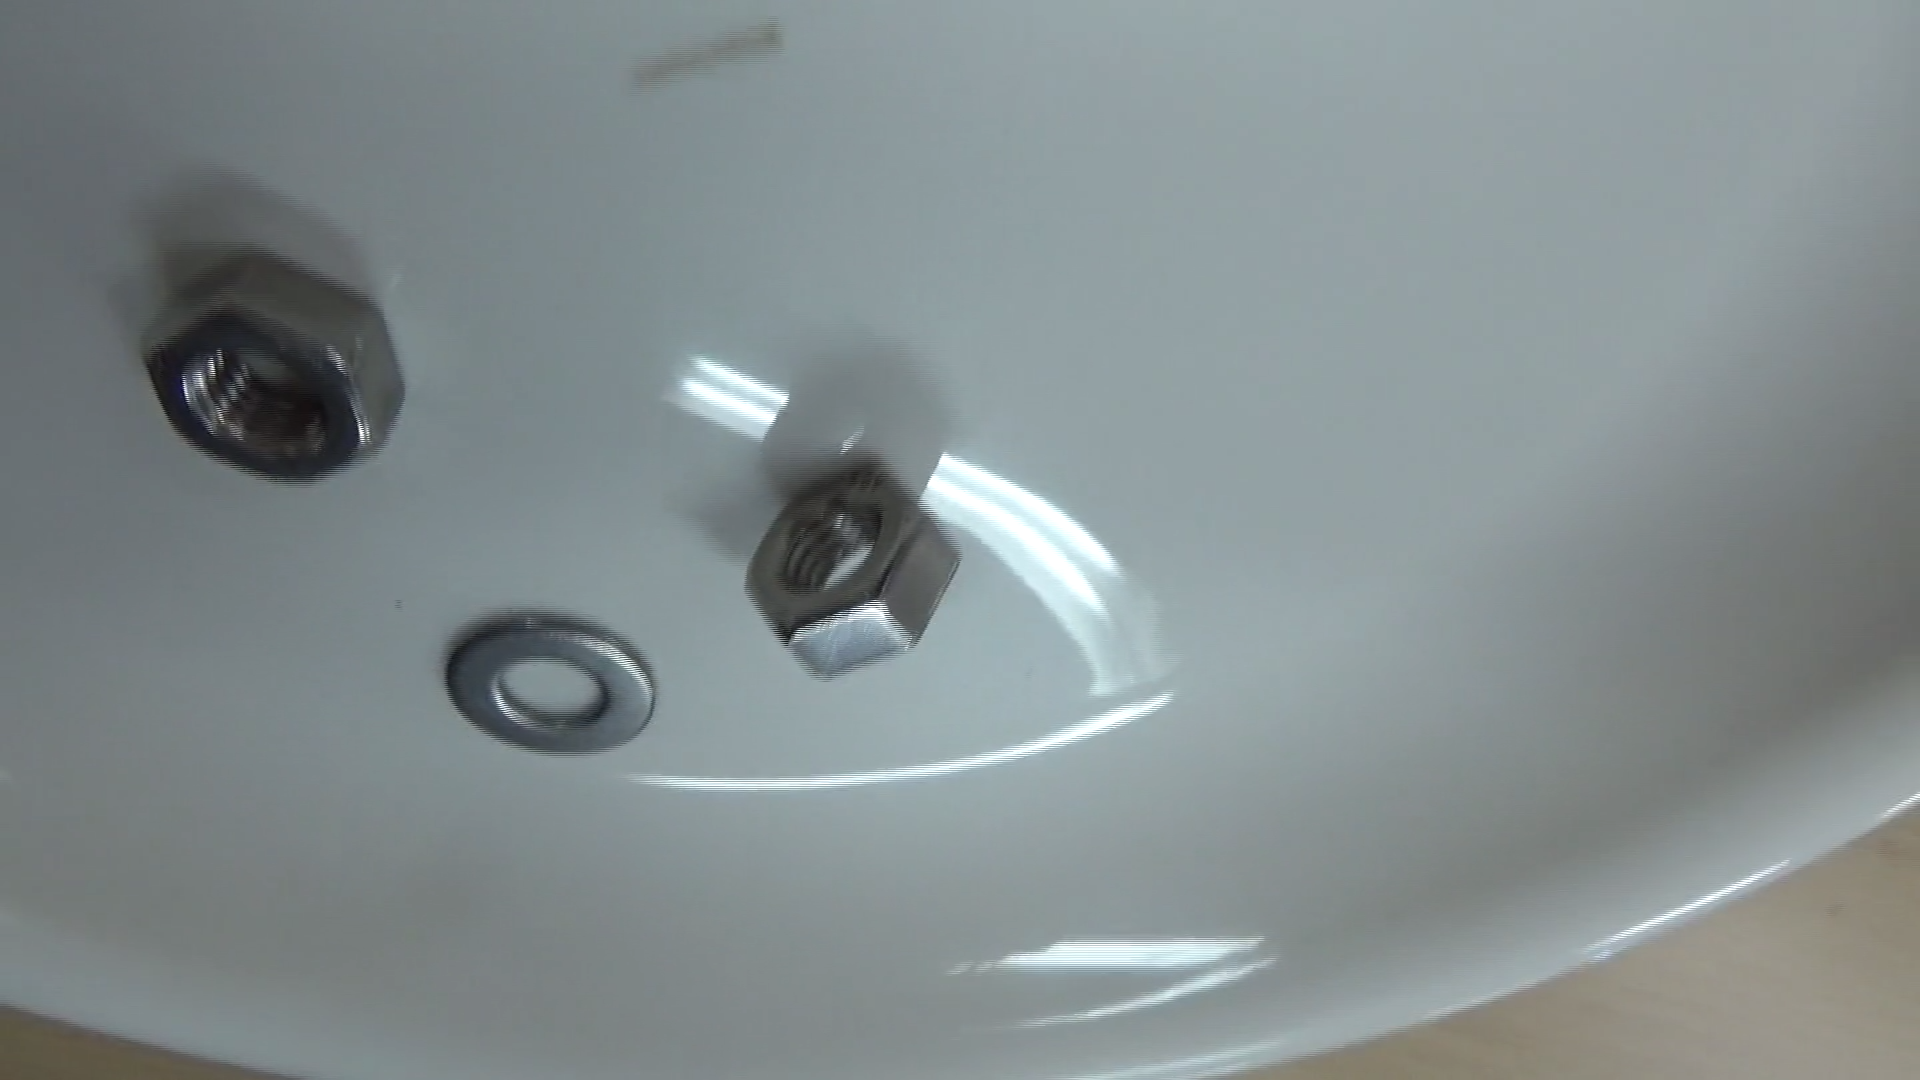nut: (120, 229, 430, 506), (728, 433, 992, 694)
washer: (429, 585, 678, 774)
